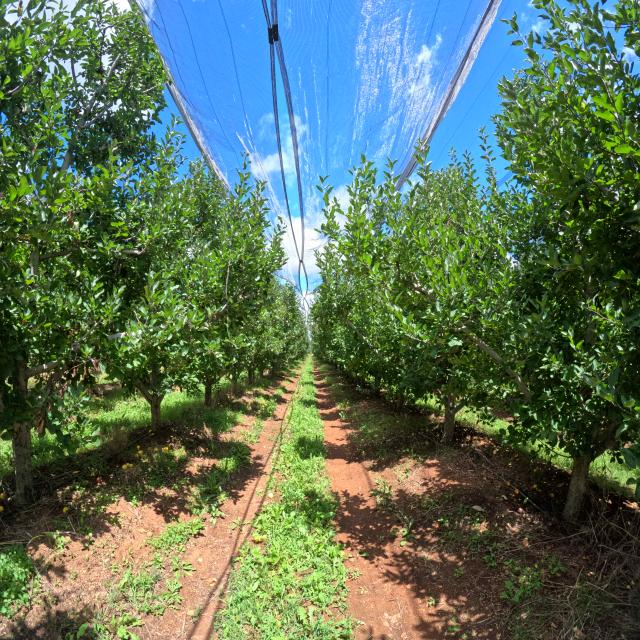-FireBlight-: (36, 356, 103, 433), (65, 210, 76, 227)
